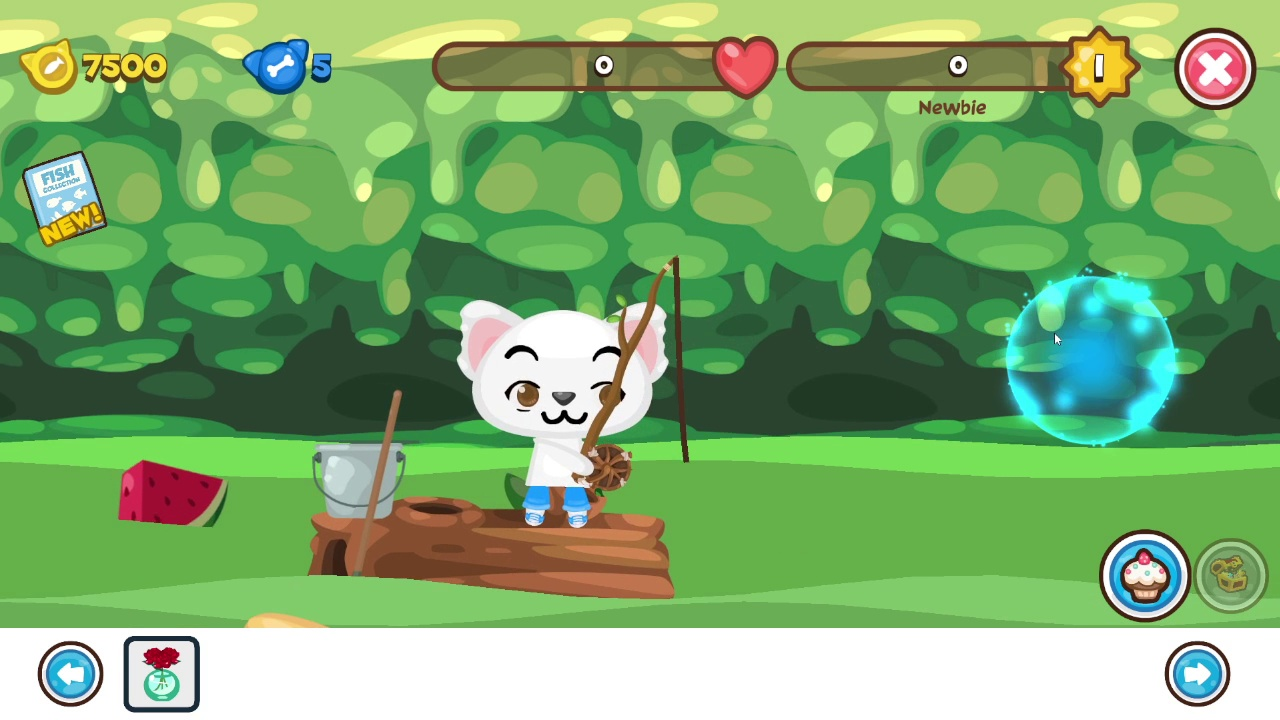point: (1004, 276, 1178, 447)
